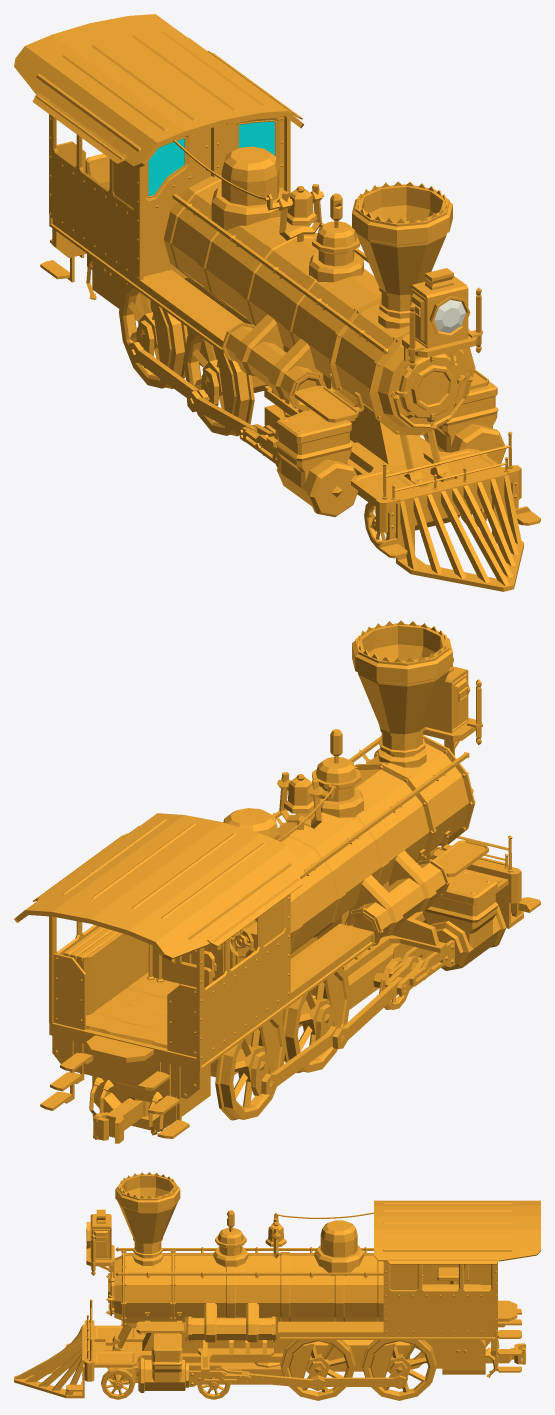
File: SM_Train_Locomotive_Steam.fbx
3 renders of one model, top to bottom at view 1: azimuth 30°, elevation 25°; view 2: azimuth 150°, elevation 25°; view 3: azimuth 270°, elevation 25°, orthographic. The views are drawn at different scales.
Visible parts, largest first — view 1: SM_Train_Locomotive_Steam_Base, SM_Train_Locomotive_Steam_Base_Wheel_B2, SM_Train_Locomotive_Steam_Base_Wheel_B1, SM_Train_Locomotive_Steam_Base_Chassis; view 2: SM_Train_Locomotive_Steam_Base, SM_Train_Locomotive_Steam_Base_Wheel_B2, SM_Train_Locomotive_Steam_Base_Wheel_B1, SM_Train_Locomotive_Steam_Base_Joint_B, SM_Train_Locomotive_Steam_Base_Chassis; view 3: SM_Train_Locomotive_Steam_Base, SM_Train_Locomotive_Steam_Base_Wheel_B2, SM_Train_Locomotive_Steam_Base_Wheel_B1, SM_Train_Locomotive_Steam_Base_Chassis, SM_Train_Locomotive_Steam_Base_Wheel_F1, SM_Train_Locomotive_Steam_Base_Joint_B, SM_Train_Locomotive_Steam_Base_Wheel_F2.
Boxes of the visible parts, bbox=[...] form: SM_Train_Locomotive_Steam_Base: bbox=[14, 14, 540, 591]; SM_Train_Locomotive_Steam_Base_Wheel_B2: bbox=[119, 284, 187, 388]; SM_Train_Locomotive_Steam_Base_Wheel_B1: bbox=[183, 331, 254, 436]; SM_Train_Locomotive_Steam_Base_Chassis: bbox=[264, 404, 460, 530]; SM_Train_Locomotive_Steam_Base: bbox=[14, 620, 540, 1138]; SM_Train_Locomotive_Steam_Base_Wheel_B2: bbox=[215, 1015, 286, 1120]; SM_Train_Locomotive_Steam_Base_Wheel_B1: bbox=[282, 968, 350, 1073]; SM_Train_Locomotive_Steam_Base_Joint_B: bbox=[93, 1097, 153, 1143]; SM_Train_Locomotive_Steam_Base_Chassis: bbox=[302, 922, 426, 1025]; SM_Train_Locomotive_Steam_Base: bbox=[14, 1172, 540, 1398]; SM_Train_Locomotive_Steam_Base_Wheel_B2: bbox=[361, 1340, 437, 1400]; SM_Train_Locomotive_Steam_Base_Wheel_B1: bbox=[280, 1340, 355, 1400]; SM_Train_Locomotive_Steam_Base_Chassis: bbox=[108, 1362, 283, 1384]; SM_Train_Locomotive_Steam_Base_Wheel_F1: bbox=[101, 1367, 135, 1399]; SM_Train_Locomotive_Steam_Base_Joint_B: bbox=[485, 1343, 525, 1364]; SM_Train_Locomotive_Steam_Base_Wheel_F2: bbox=[197, 1378, 230, 1399].
Size of the model in its own units: 3.26 by 4.92 by 11.64.
